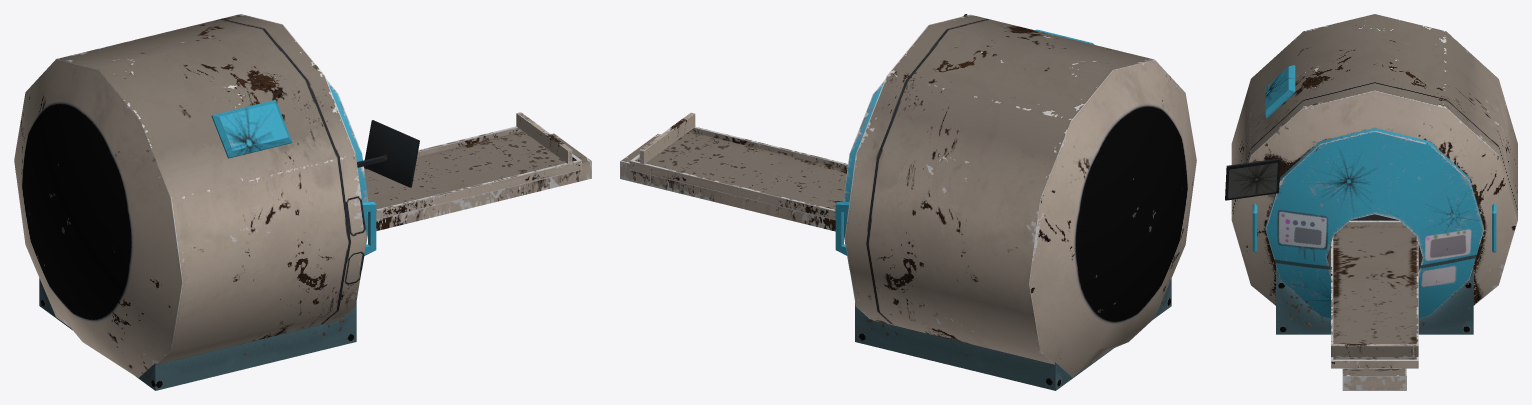
File: mrt.FBX
The picture shows the model from 3 angles, left to right: view 1: azimuth 30°, elevation 25°; view 2: azimuth 150°, elevation 25°; view 3: azimuth 270°, elevation 25°; orthographic projection. The views are drawn at different scales.
Visible parts, largest first — view 1: mrt; view 2: mrt; view 3: mrt.
Part boxes in pixels (bbox=[...]): mrt: bbox=[14, 14, 591, 390]; mrt: bbox=[620, 14, 1196, 390]; mrt: bbox=[1225, 14, 1517, 390].
Bounding box in the file's own units: 508 × 265 × 296.
